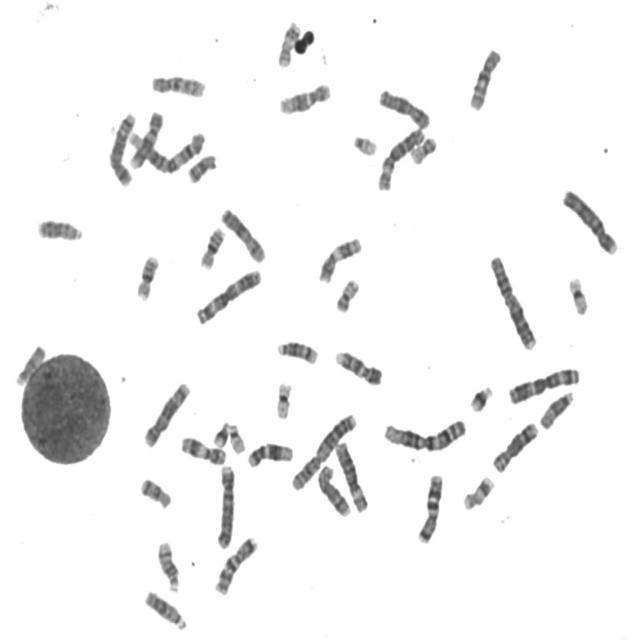A1: (124, 124, 207, 174), (379, 413, 468, 453)
A2: (287, 408, 358, 492), (486, 250, 539, 352)
A3: (192, 264, 264, 326), (505, 362, 582, 406)
B4: (559, 184, 620, 257), (212, 459, 238, 550)
B5: (140, 377, 192, 449), (106, 107, 138, 188)
C10: (465, 43, 504, 113), (148, 68, 207, 98)
C11: (315, 232, 363, 285), (178, 432, 228, 466)
C12: (276, 77, 332, 116), (243, 438, 295, 469)
C6: (374, 122, 427, 192), (331, 437, 370, 514)
C7: (210, 531, 259, 597), (414, 469, 444, 545)
C8: (489, 416, 540, 474), (314, 460, 352, 518)
C9: (127, 106, 165, 170), (332, 345, 384, 387)
D13: (141, 585, 189, 632), (34, 213, 84, 243)
D14: (154, 536, 182, 593), (273, 336, 320, 366)
D15: (536, 386, 576, 431), (12, 340, 47, 388)
E16: (196, 222, 227, 270), (132, 250, 160, 302)
E17: (459, 470, 496, 512), (274, 16, 302, 68)
E18: (136, 473, 173, 510), (184, 148, 219, 185)
F19: (564, 271, 590, 316), (272, 377, 294, 421)
F20: (332, 274, 361, 313), (407, 132, 439, 166)
G21: (466, 379, 495, 414), (210, 416, 231, 448)
G22: (225, 420, 248, 456), (349, 130, 379, 157)
X: (217, 203, 268, 265), (375, 84, 432, 130)
